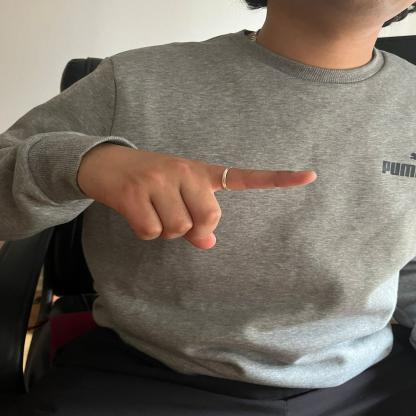S: (77, 132, 319, 254)
